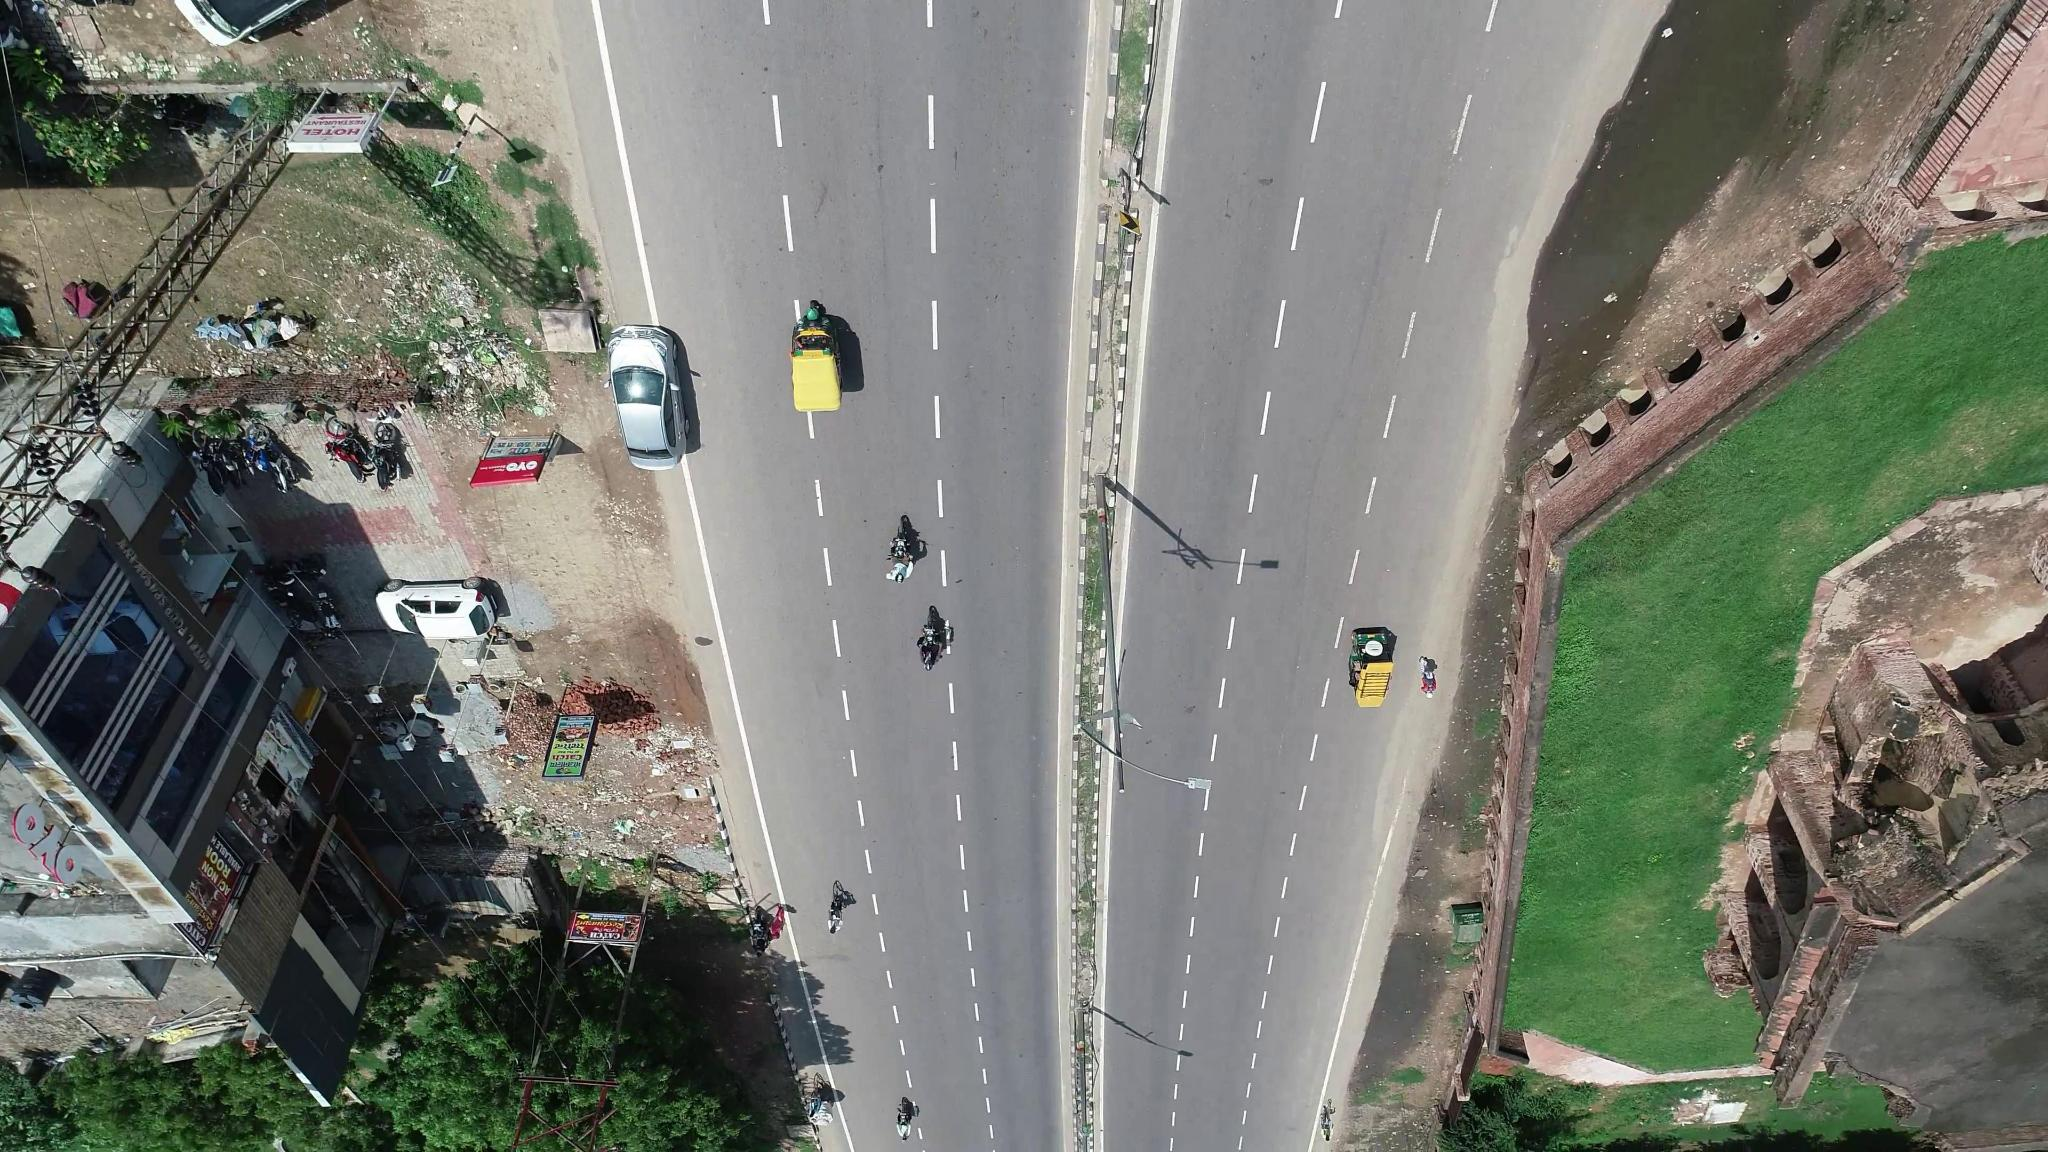Waterlogging: (1542, 17, 1788, 349)
